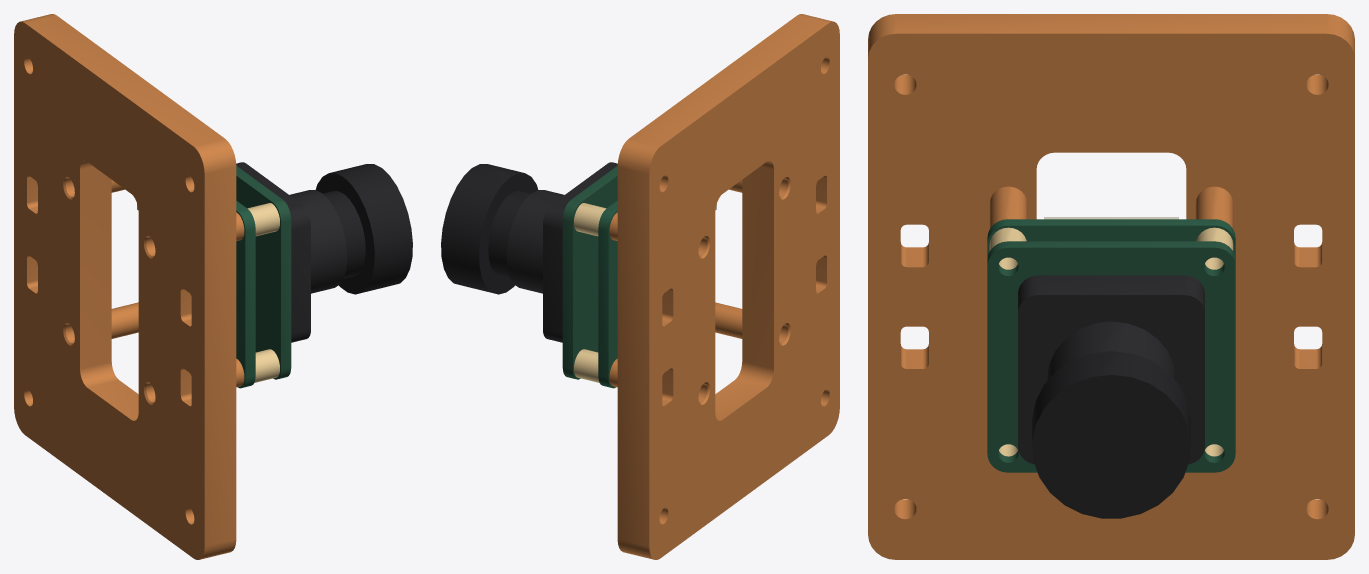
File: pigeon-camera.glb
The picture shows the model from 3 angles, left to right: view 1: azimuth 30°, elevation 25°; view 2: azimuth 150°, elevation 25°; view 3: azimuth 270°, elevation 25°; orthographic projection. The views are drawn at different scales.
Parts seen in each view (by area): view 1: pigeon-camera; view 2: pigeon-camera; view 3: pigeon-camera.
Part boxes in pixels (left/top/right/bottom): pigeon-camera: left=14, top=14, right=412, bottom=559; pigeon-camera: left=441, top=14, right=839, bottom=559; pigeon-camera: left=868, top=14, right=1354, bottom=559.
Bounding box in the file's own units: 0.0429 × 0.062 × 0.052.
